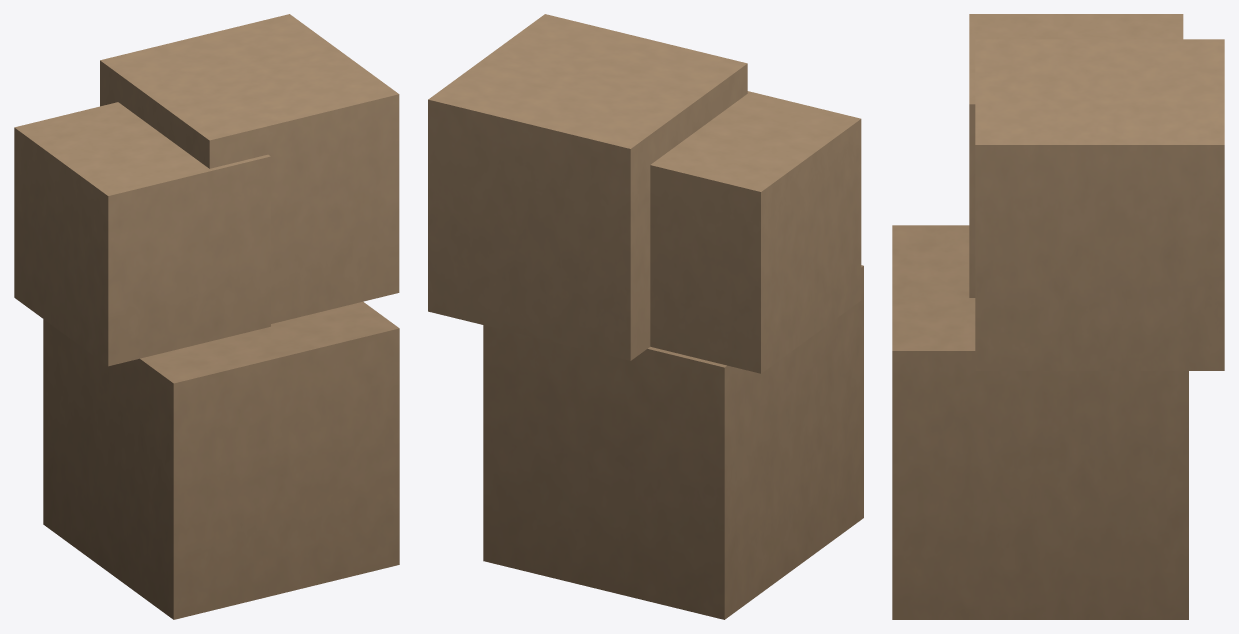
The model's file is crate.glb.
3 views of the same model, side by side, from view 1: azimuth 30°, elevation 25°; view 2: azimuth 150°, elevation 25°; view 3: azimuth 270°, elevation 25° (orthographic). The views are drawn at different scales.
Parts seen in each view (by area): view 1: crate; view 2: crate; view 3: crate.
Part boxes in pixels (x1=…): crate: x1=14, y1=14, x2=399, y2=619; crate: x1=428, y1=14, x2=863, y2=619; crate: x1=892, y1=14, x2=1224, y2=619.
Size of the model in its own units: 0.65 by 0.92 by 0.56.
Materials: 1 (1 with a texture image).
